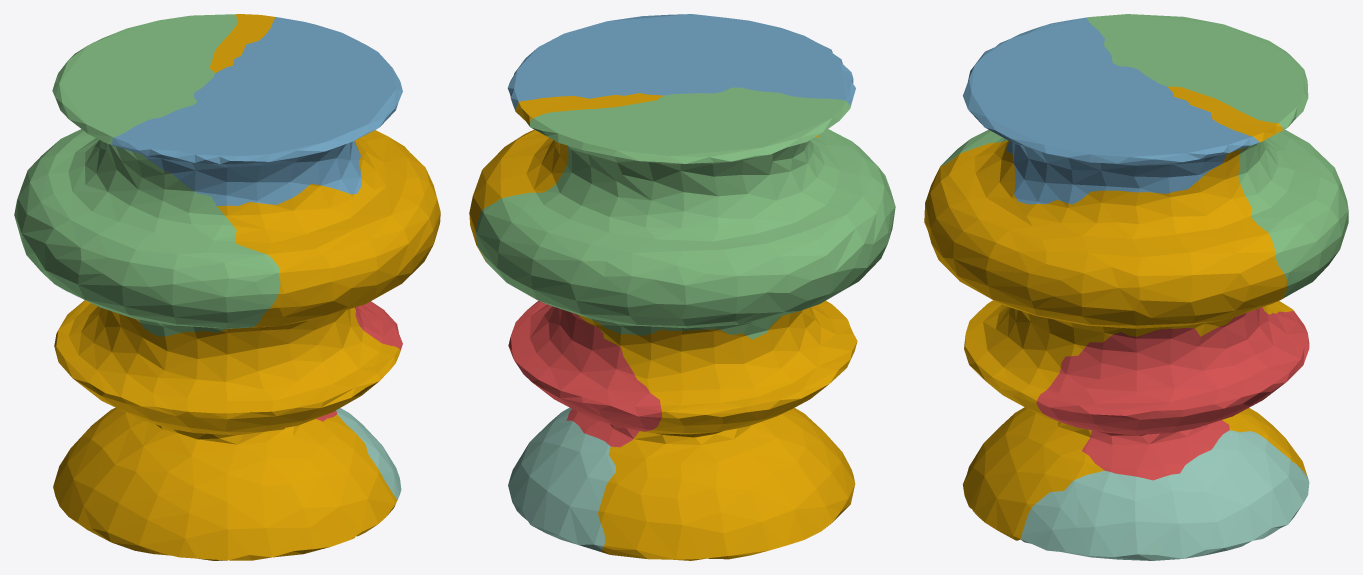
Rendered from mode_11_6pcs.glb.
3 views of the same model, side by side, from view 1: azimuth 30°, elevation 25°; view 2: azimuth 150°, elevation 25°; view 3: azimuth 270°, elevation 25° (orthographic).
Parts seen in each view (by area): view 1: piece_0.obj, piece_3.obj, piece_2.obj, piece_4.obj, piece_1.obj; view 2: piece_3.obj, piece_0.obj, piece_2.obj, piece_1.obj, piece_4.obj; view 3: piece_0.obj, piece_2.obj, piece_1.obj, piece_3.obj, piece_4.obj.
Part boxes in pixels (x1,y1,x2,y2): piece_0.obj: [53, 14, 440, 560]; piece_3.obj: [14, 14, 280, 336]; piece_2.obj: [112, 17, 402, 205]; piece_4.obj: [336, 408, 401, 500]; piece_1.obj: [316, 301, 402, 421]; piece_3.obj: [476, 87, 895, 339]; piece_0.obj: [469, 93, 857, 560]; piece_2.obj: [507, 14, 855, 109]; piece_1.obj: [508, 301, 661, 447]; piece_4.obj: [508, 407, 615, 552]; piece_0.obj: [924, 86, 1307, 540]; piece_2.obj: [963, 17, 1259, 204]; piece_1.obj: [1036, 307, 1309, 480]; piece_3.obj: [940, 14, 1348, 298]; piece_4.obj: [1020, 430, 1309, 560].
Bounding box in the file's own units: 0.9504 × 1 × 0.95.
